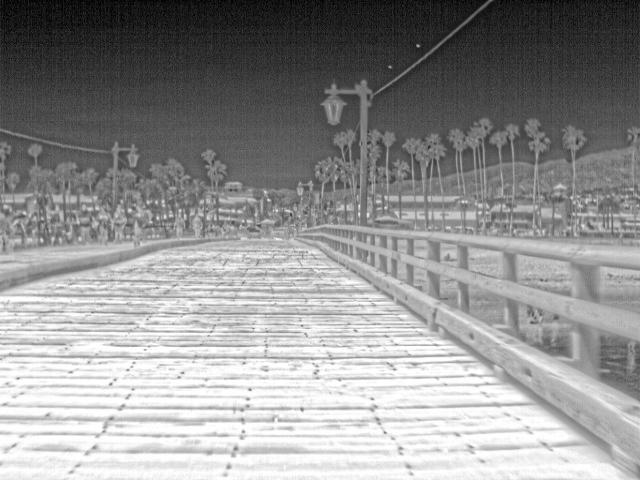car: (269, 226, 288, 239), (246, 227, 264, 238)
person: (95, 204, 115, 244), (76, 202, 95, 244), (128, 206, 147, 248), (110, 204, 129, 244), (49, 204, 66, 248), (189, 212, 204, 240), (171, 213, 186, 240)
